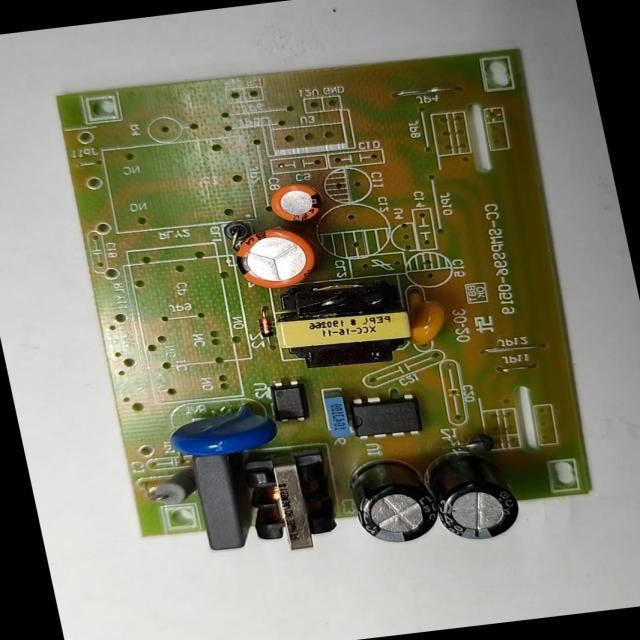Cap1: (229, 221, 322, 292)
Cap2: (265, 179, 328, 225)
Cap3: (345, 451, 443, 548)
Cap4: (426, 445, 524, 545)
MOSFET: (344, 388, 426, 442)
Mov: (162, 396, 280, 461)
Resistor: (146, 464, 200, 509)
Transformer: (267, 276, 416, 372), (236, 448, 345, 557)
